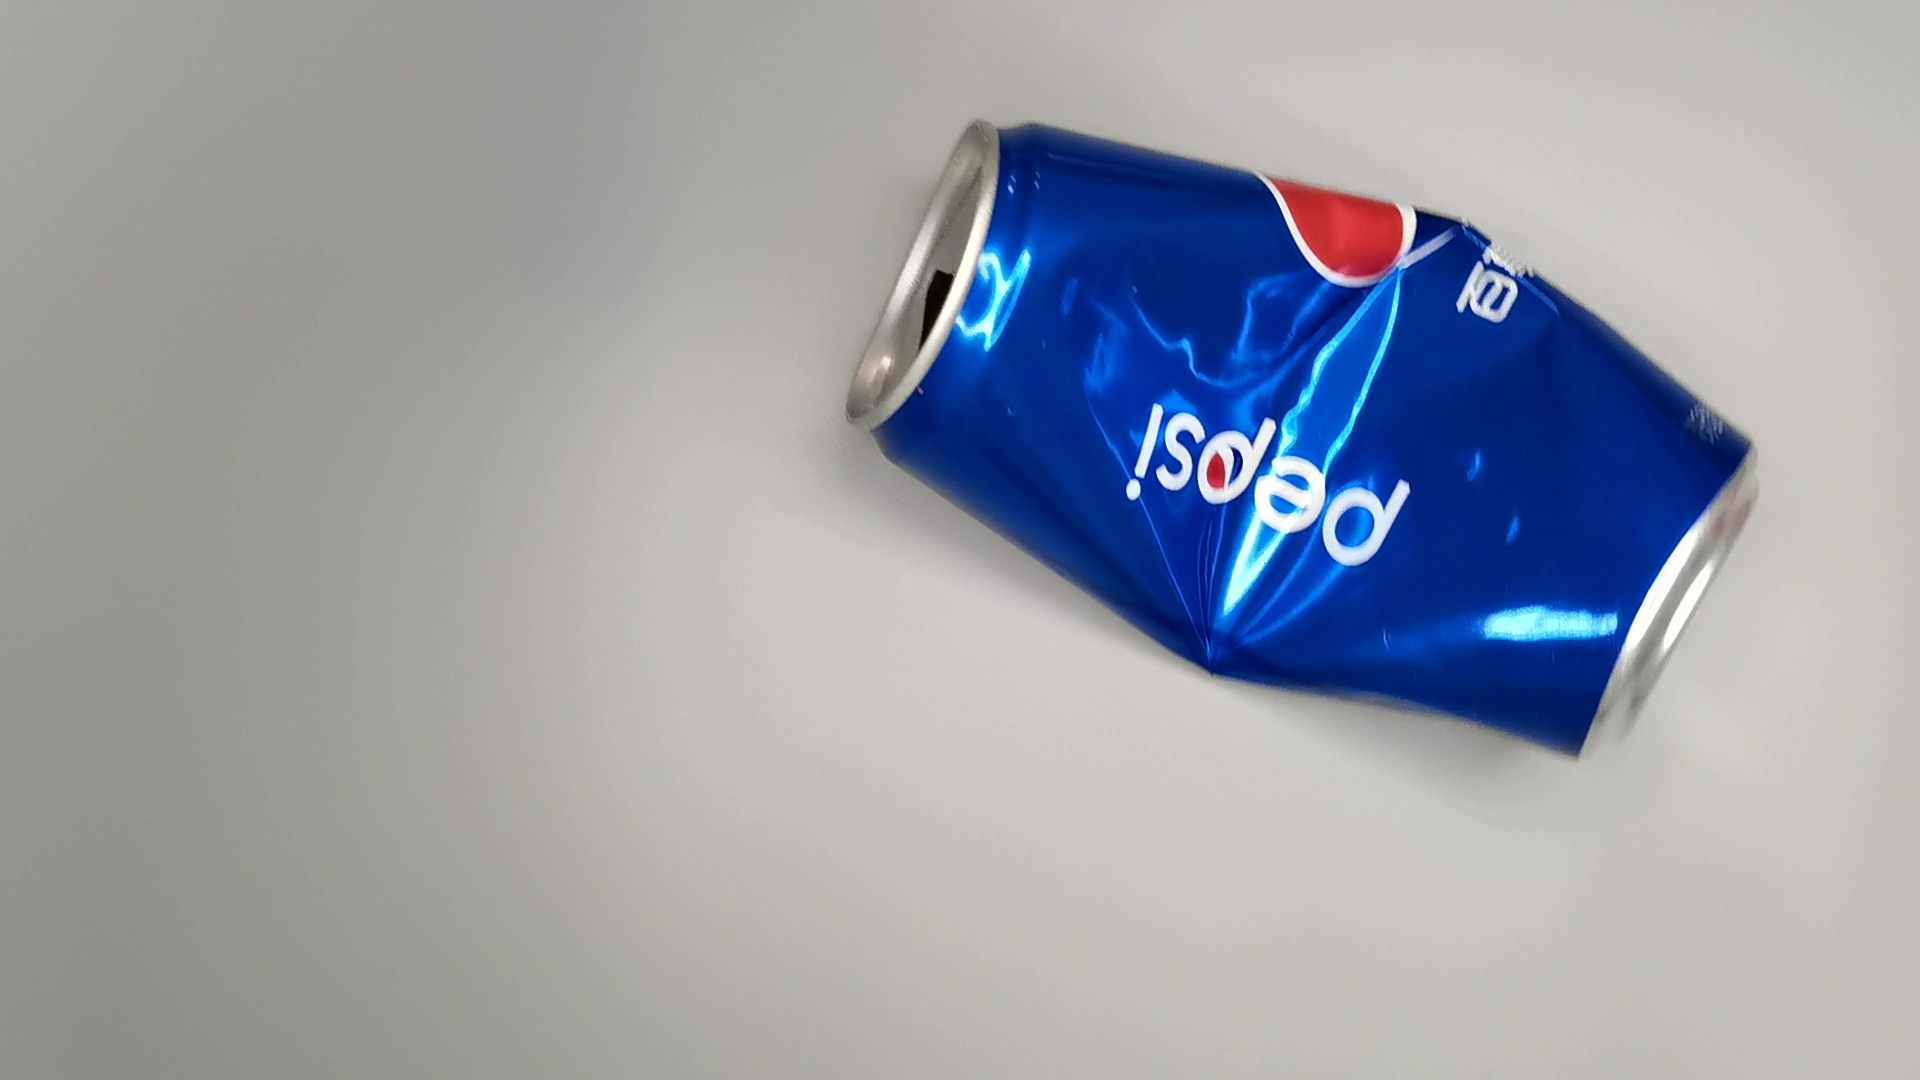can: (833, 109, 1785, 765)
